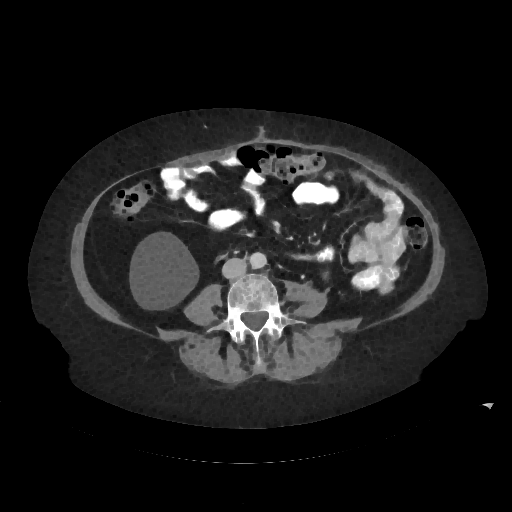Lesion: (126, 229, 202, 314)
